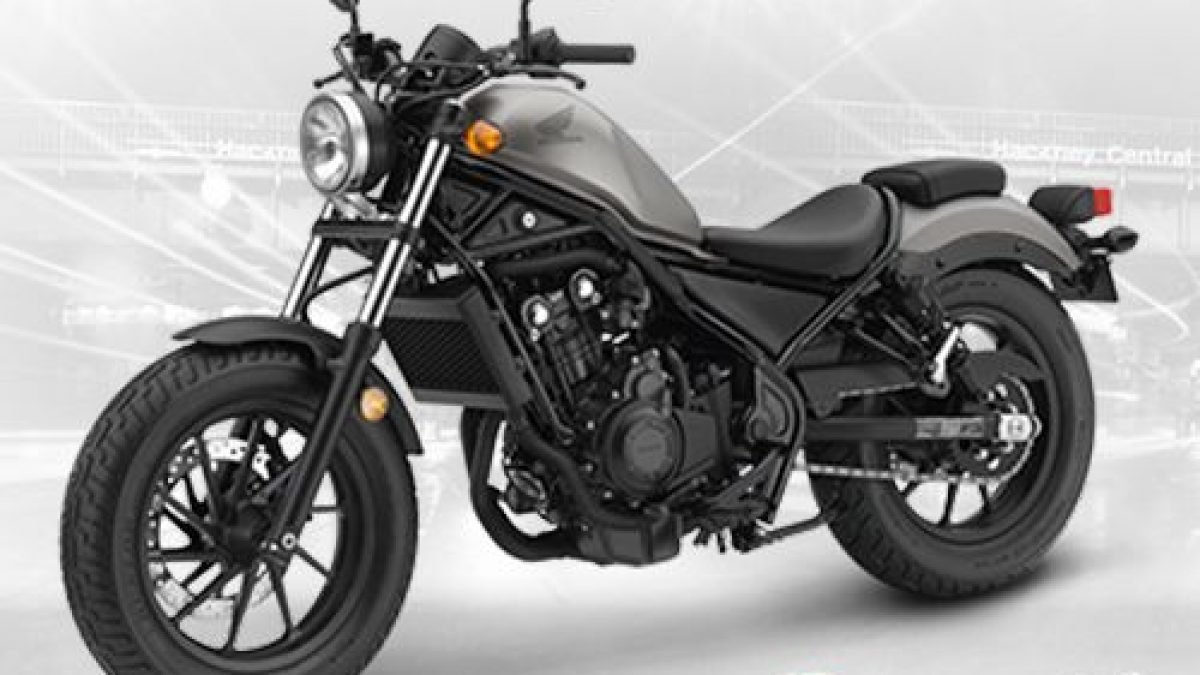motor: (125, 28, 1146, 675)
